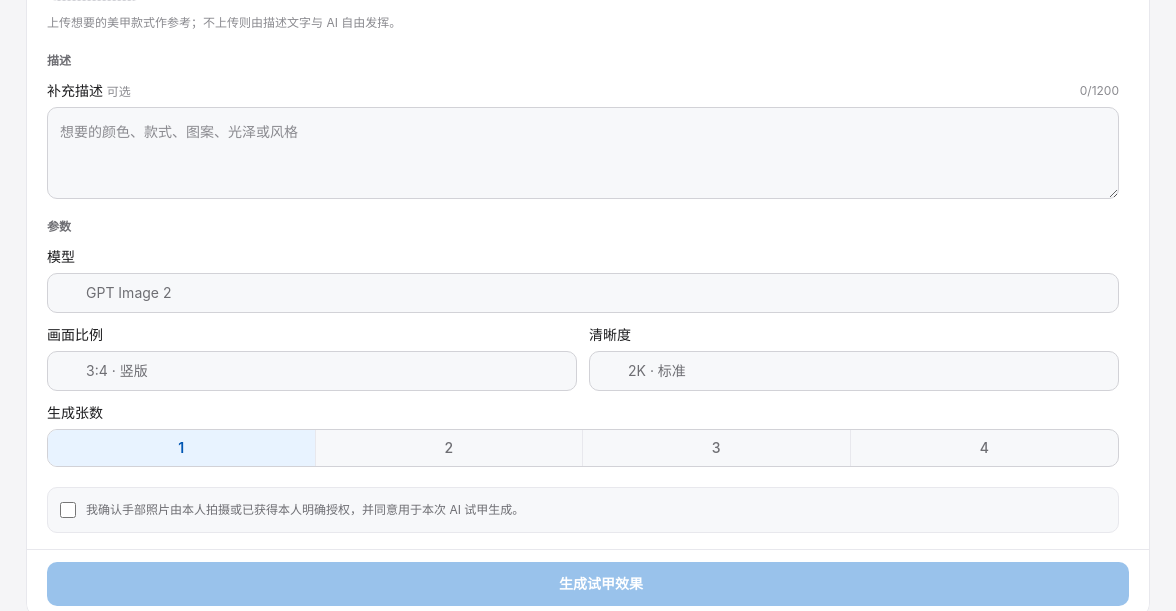
NailTryOnWorkflowStudio › 切到不支持蒙版的模型时警示手部锁定不保证
(page scrolled)
Expected: the text "所选模型不支持蒙版" is not shown
What coordinates should you click on to do the following:
click the button "GPT Image 2"
I would click on:
 (129, 293)
Its box is x1=47 y1=273 x2=1119 y2=313.
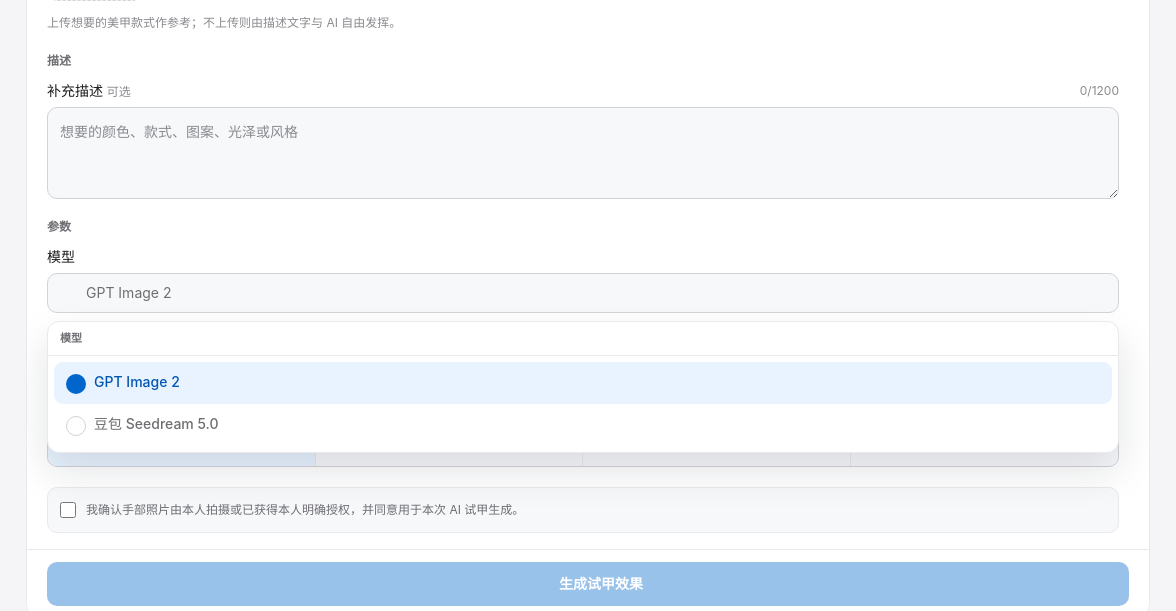
What coordinates should you click on to do the following:
click the option "豆包 Seedream 5.0"
I would click on:
 (156, 423)
Its box is x1=54 y1=404 x2=1112 y2=446.
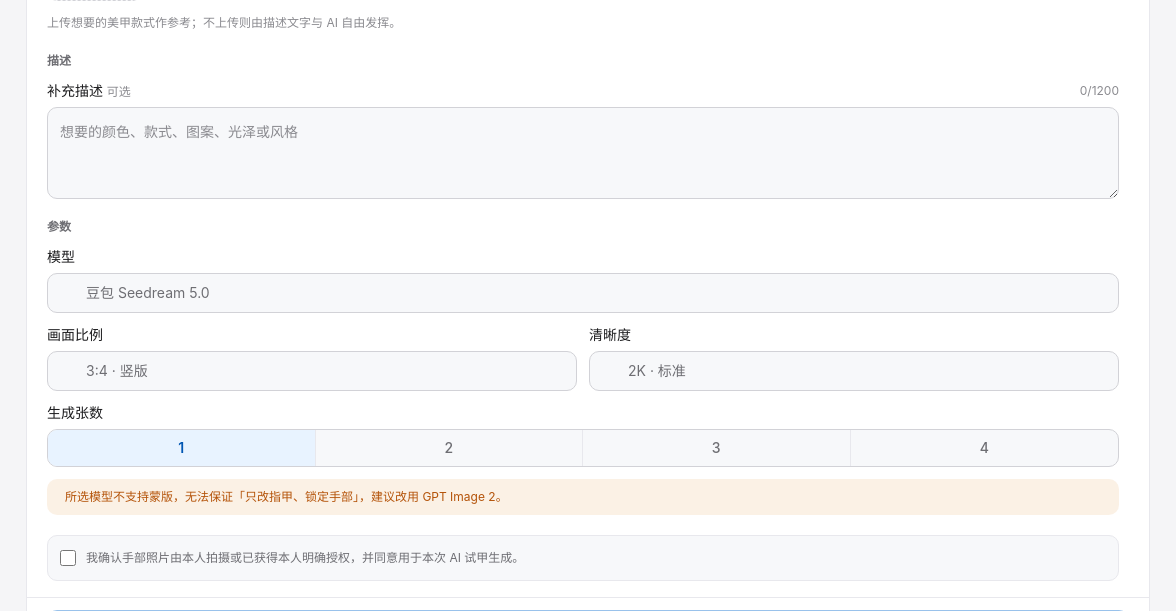
Expected: the text "所选模型不支持蒙版" is shown, x1=65 y1=489 x2=508 y2=504
What coordinates should you click on to do the following:
click the button "豆包 Seedream 5.0"
I would click on:
 (148, 293)
Its box is x1=47 y1=273 x2=1119 y2=313.
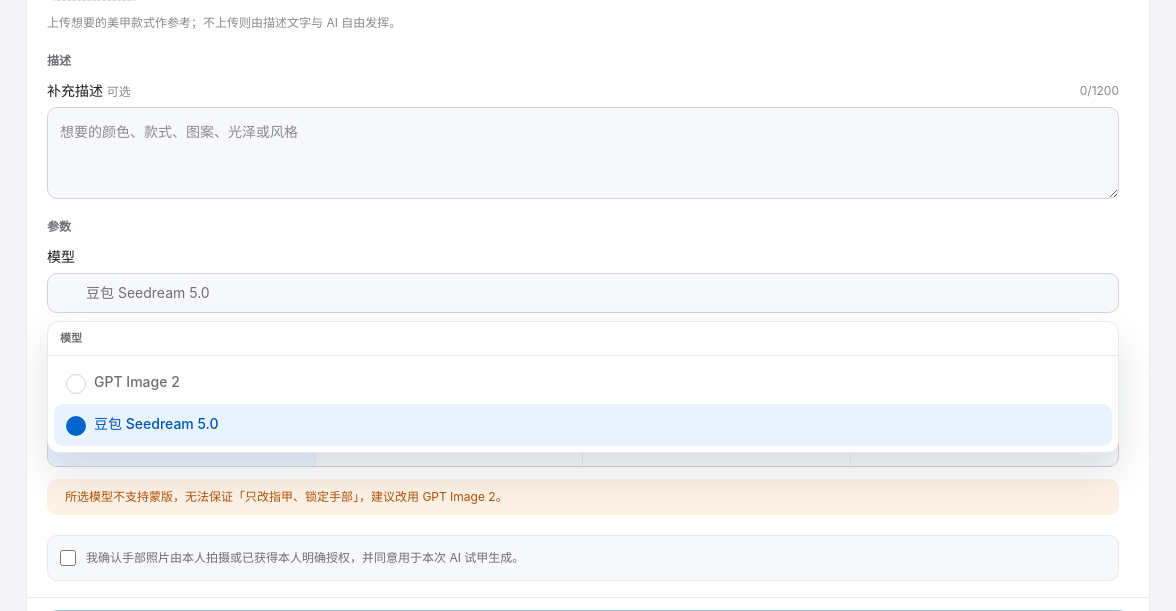
What coordinates should you click on to do the following:
click the option "GPT Image 2"
I would click on:
 (137, 381)
Its box is x1=54 y1=362 x2=1112 y2=404.
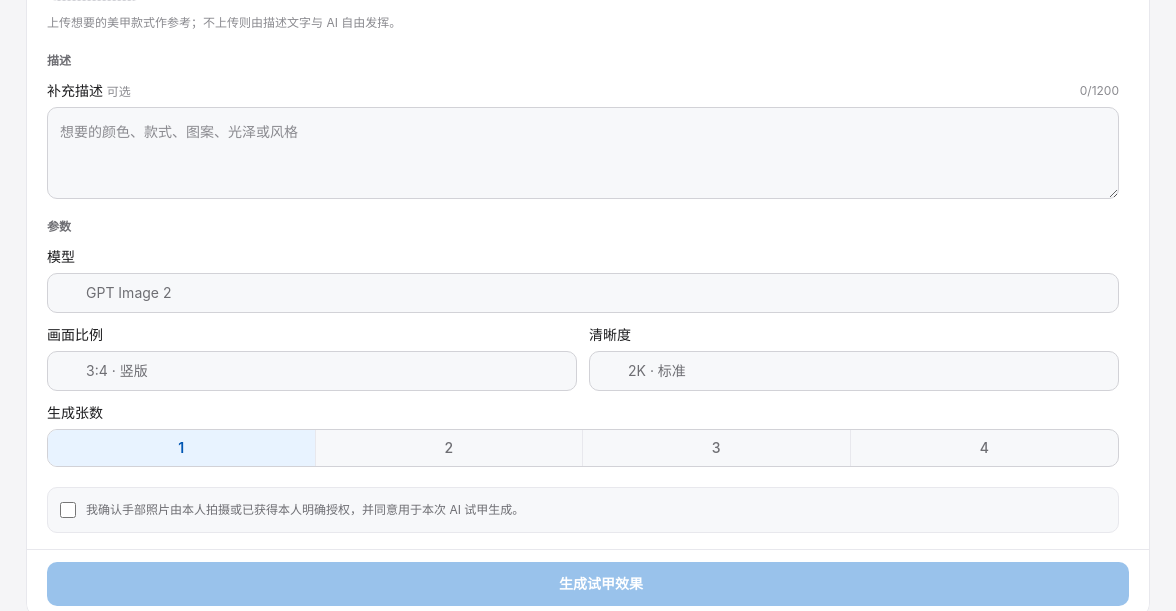
Expected: the text "所选模型不支持蒙版" is gone
